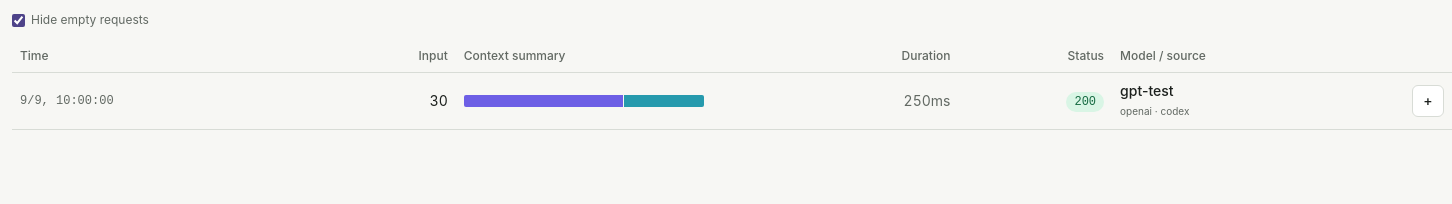
RequestTable › provides responsive detail disclosure with secondary fields
Click the button named "Show request details". click: x=1428, y=101
box: [1412,85,1444,117]
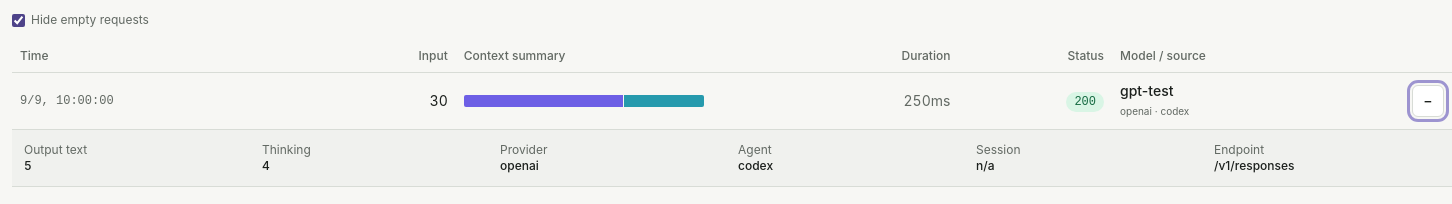
Check: the text "Output text" is shown, box [24,142,87,157]
Check: the text "Thinking" is shown, box [262,142,311,157]
Check: the text "Agent" is shown, box [738,142,772,157]
